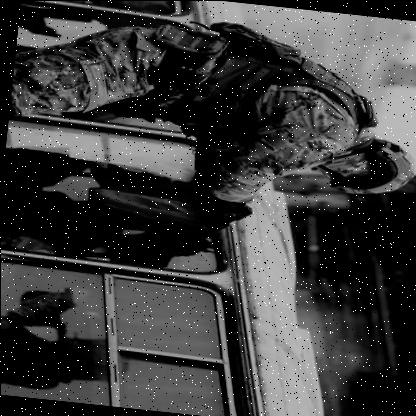rifle: (193, 195, 255, 241)
